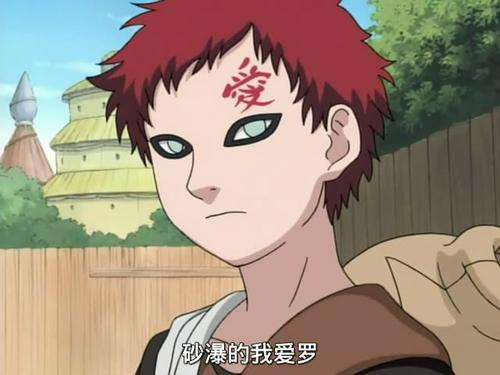gaara: (138, 19, 358, 269)
